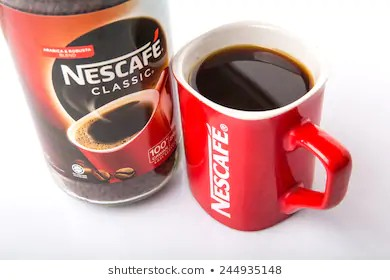nescafe-classic/gold-med: (1, 4, 189, 207)
nescafe-mug: (178, 36, 353, 229)
